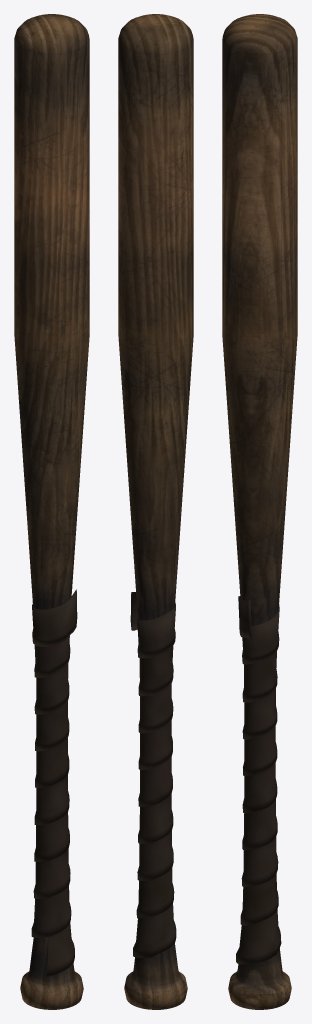
File: bat.glb
3 renders of one model, left to right at view 1: azimuth 30°, elevation 25°; view 2: azimuth 210°, elevation 25°; view 3: azimuth 270°, elevation 25°, orthographic.
Parts seen in each view (by area): view 1: baseball_bat; view 2: baseball_bat; view 3: baseball_bat.
Part boxes in pixels (x1,y1,x2,y2): baseball_bat: (14, 14, 89, 1009); baseball_bat: (118, 14, 193, 1009); baseball_bat: (222, 14, 297, 1009).
Bounding box in the file's own units: 0.0635 × 0.9132 × 0.0635.
Materials: 1 (1 with a texture image).
